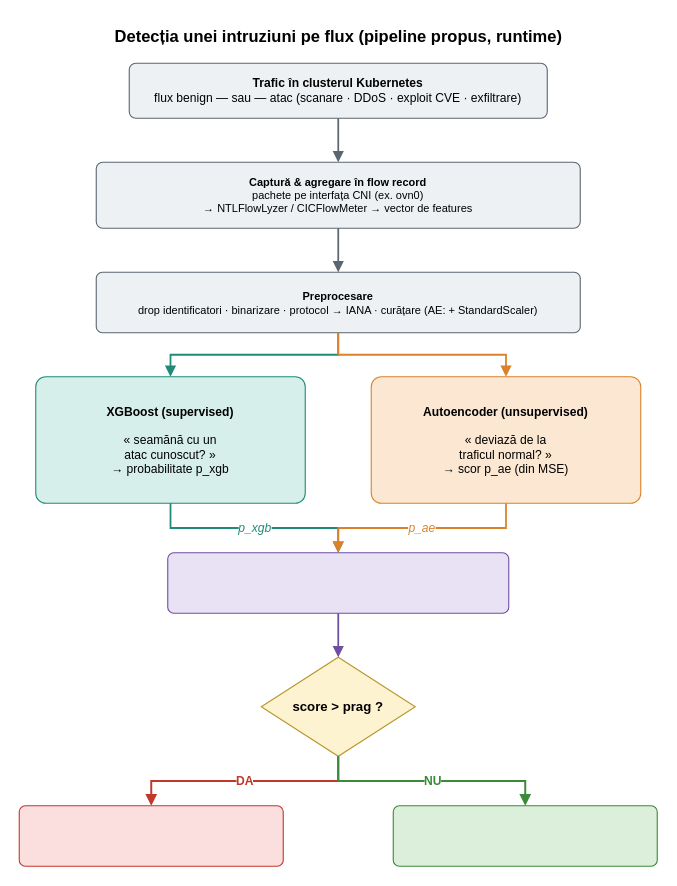
Some shapes in this 677 by 886 pixel diagram are drawn without their labels. The box of each missing label's shape, as (x1, y1, x2, y2) in pixels:
ALERTĂ — INTRUZIUNE → Alert Correlator / SOC: (18, 805, 283, 866)
Fuziune (Platt) score = 0,7 · p_xgb + 0,3 · p_ae: (167, 552, 509, 613)
TRAFIC NORMAL permis, fără alertă: (392, 805, 657, 866)
